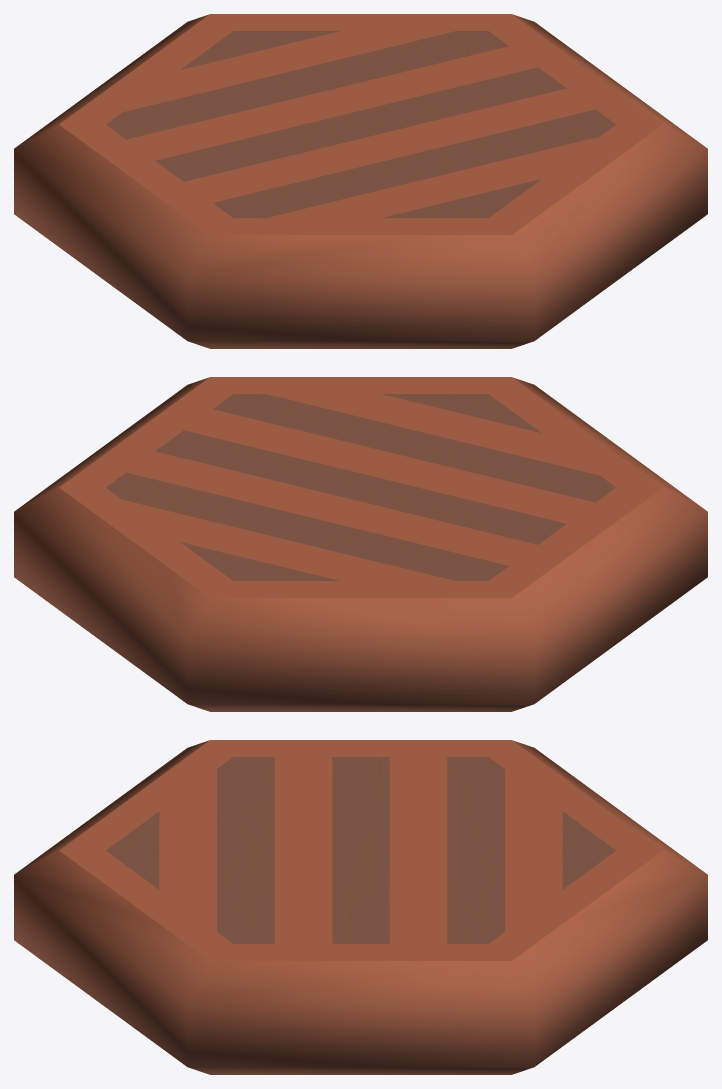
The model's file is meat-patty.glb.
3 views of the same model, one above another, from view 1: azimuth 30°, elevation 25°; view 2: azimuth 150°, elevation 25°; view 3: azimuth 270°, elevation 25° (orthographic).
Parts seen in each view (by area): view 1: meat-patty; view 2: meat-patty; view 3: meat-patty.
Part boxes in pixels (x1=…): meat-patty: x1=14, y1=14, x2=707, y2=348; meat-patty: x1=14, y1=377, x2=707, y2=711; meat-patty: x1=14, y1=740, x2=707, y2=1074.
Bounding box in the file's own units: 0.2988 × 0.0624 × 0.345.
Materials: 1 (1 with a texture image).
